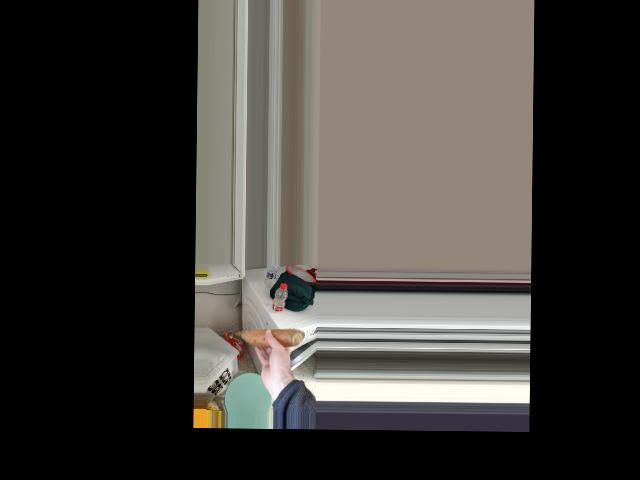sweet_potato: (238, 329, 298, 347)
